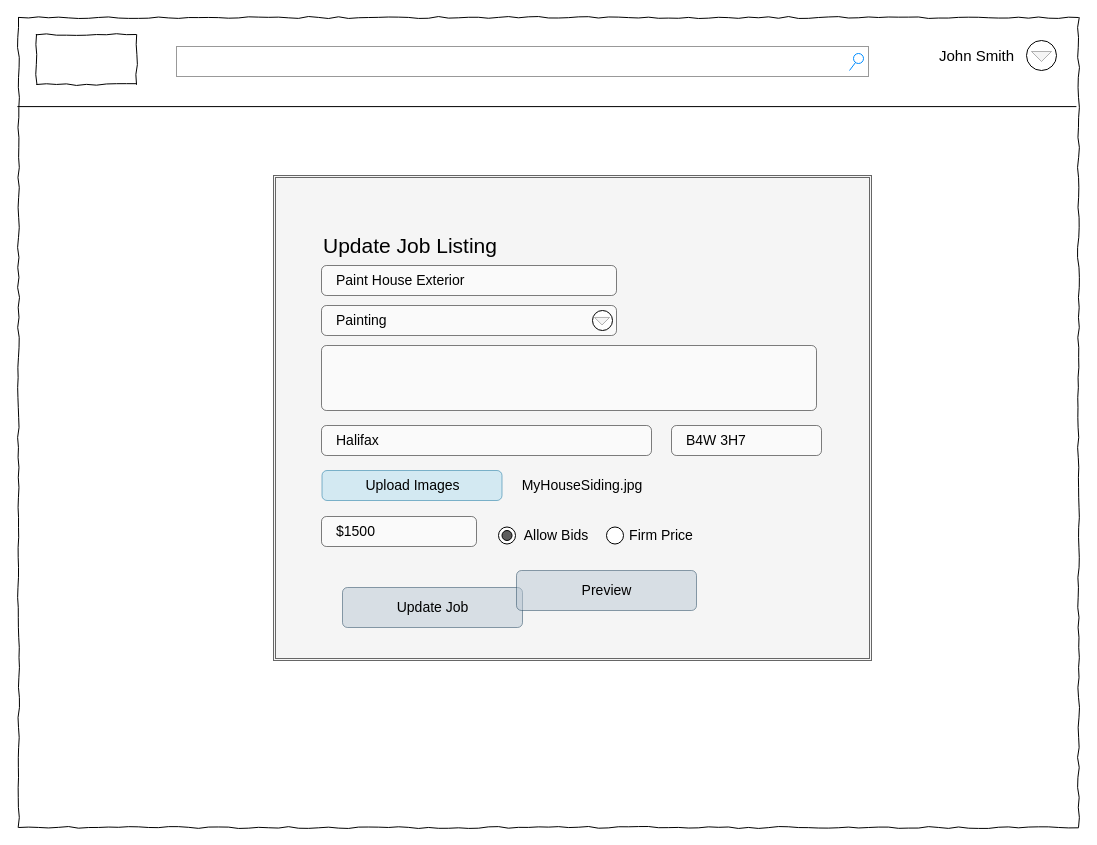
This 1097x845 diagram has some shape labels left out. The centre of each missing label's shape, as x and y in pixels:
"LOGO" belongs at (x=86, y=59).
"Search" belongs at (x=522, y=61).
"Seeking someone to scrape and paint the exterior of my house." belongs at (x=568, y=377).
